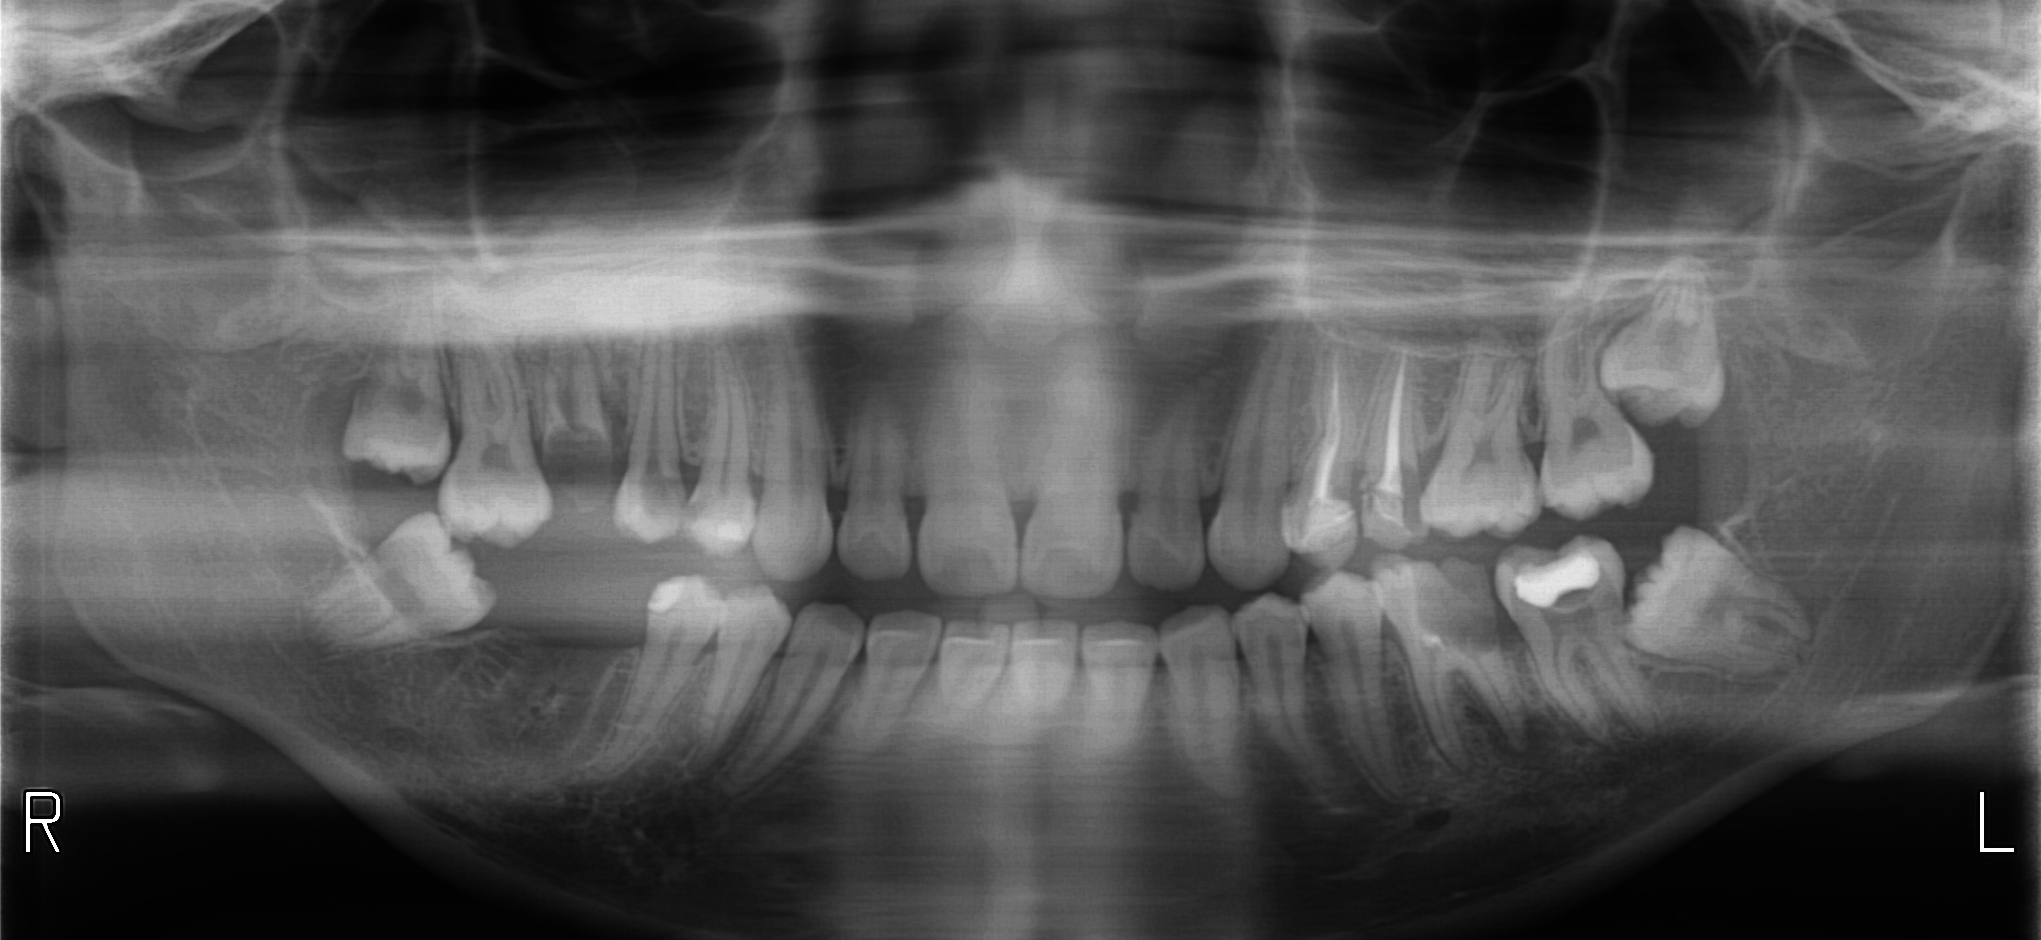cavity: (1415, 555, 1500, 654), (1401, 454, 1424, 526), (1554, 579, 1608, 605), (685, 504, 705, 521)
